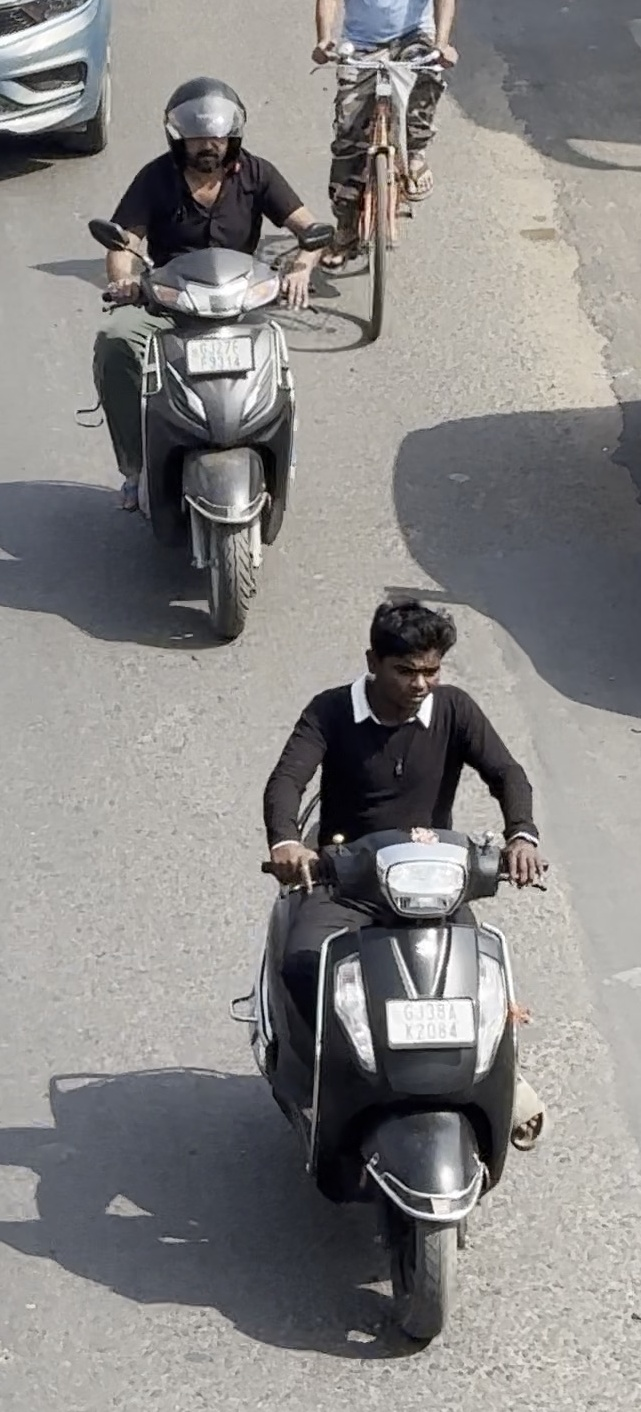BikeWithRider: (221, 581, 561, 1354), (67, 65, 335, 651)
Helmet: (148, 67, 263, 187)
NoHelmet: (343, 586, 470, 728)
